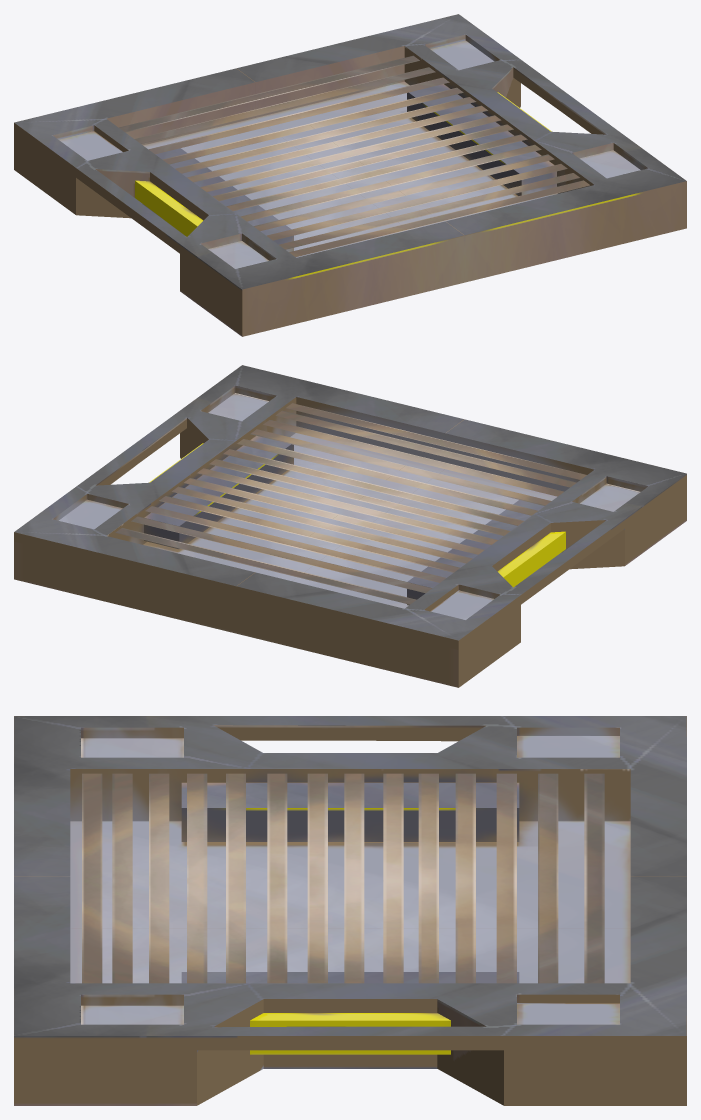
File: Tile_Generic.fbx
3 renders of one model, top to bottom at view 1: azimuth 30°, elevation 25°; view 2: azimuth 150°, elevation 25°; view 3: azimuth 270°, elevation 25°, orthographic. The views are drawn at different scales.
Visible parts, largest first — view 1: Tile; view 2: Tile; view 3: Tile.
Boxes of the visible parts, bbox=[...] form: Tile: bbox=[14, 14, 686, 336]; Tile: bbox=[14, 365, 686, 687]; Tile: bbox=[14, 716, 686, 1105].
Bounding box in the file's own units: 4.5 × 0.4572 × 4.
